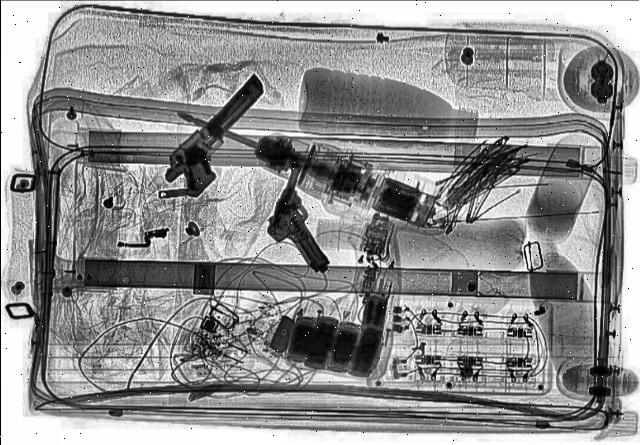Gun: (150, 72, 302, 192), (256, 163, 358, 271)
